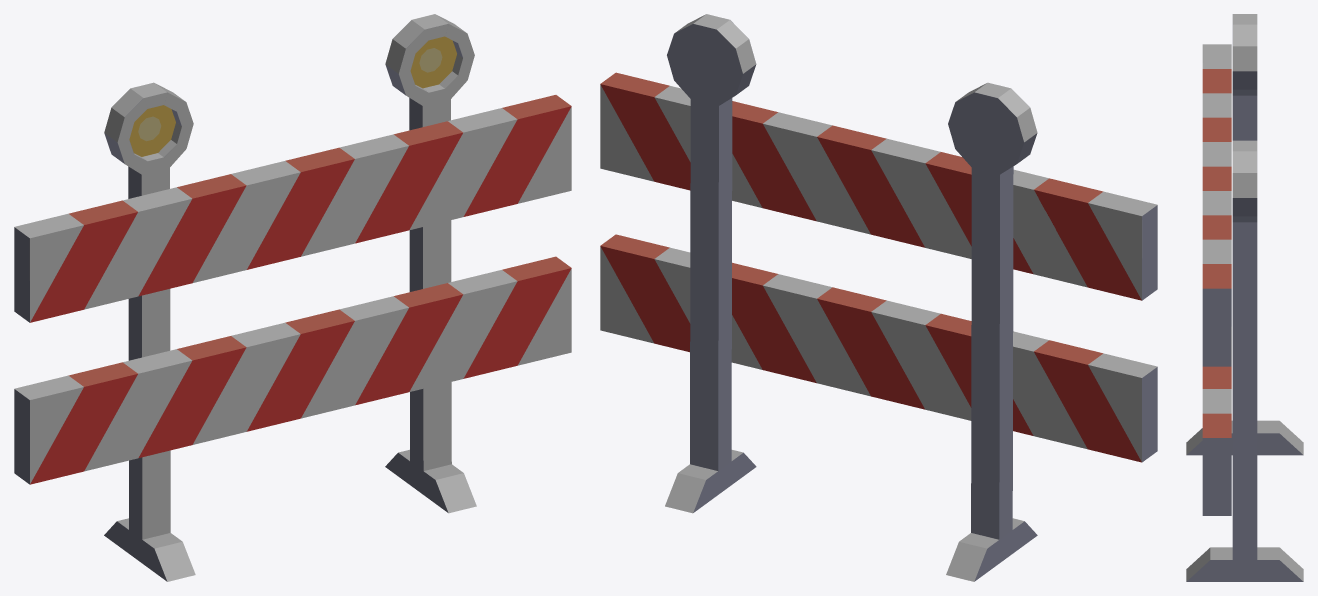
Rendered from RoadBlock.fbx.
3 renders of one model, left to right at view 1: azimuth 30°, elevation 25°; view 2: azimuth 150°, elevation 25°; view 3: azimuth 270°, elevation 25°, orthographic. The views are drawn at different scales.
Visible parts, largest first — view 1: Cube.001; view 2: Cube.001; view 3: Cube.001.
Boxes of the visible parts, left/top/right/bottom form: Cube.001: left=14, top=14, right=571, bottom=581; Cube.001: left=600, top=14, right=1157, bottom=581; Cube.001: left=1186, top=14, right=1303, bottom=581.
Bounding box in the file's own units: 193 × 158 × 39.19.
